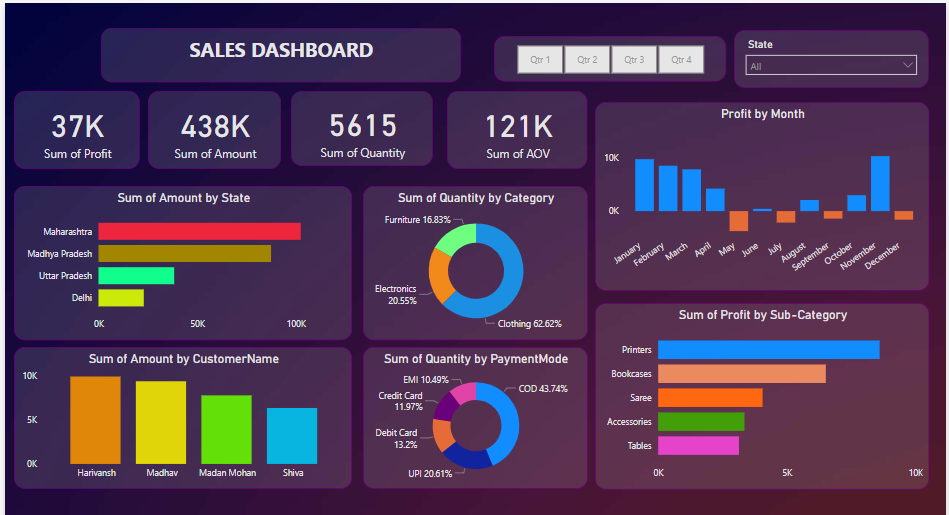

The page's visual inventory and layout, read from the dashboard file:
{"tool":"powerbi","page":{"name":"Sales","canvas":[1280,720],"ordinal":0},"visuals":[{"type":"textbox","box":[131,33.6,490.5,73.9],"z":0},{"type":"columnChart","title":"Profit by Month","fields":{"Y":["Details.Profit"],"Category":["Orders.Order Date.Variation.Date Hierarchy.Month"]},"box":[802.9,134.4,455.2,257],"z":1000},{"type":"barChart","fields":{"Category":["Details.Sub-Category"],"Y":["Details.Profit"]},"box":[802.9,408.2,455.2,253.6],"z":2000},{"type":"donutChart","fields":{"Category":["Details.Category"],"Y":["Details.Quantity"]},"box":[487.1,248.6,305.7,210],"z":3000},{"type":"donutChart","fields":{"Y":["Details.Quantity"],"Category":["Details.PaymentMode"]},"box":[487.1,468.7,305.7,193.2],"z":4000},{"type":"card","fields":{"Values":["Details.Amount"]},"box":[194.9,119.3,181.4,105.8],"z":5000},{"type":"card","fields":{"Values":["Details.Quantity"]},"box":[389.7,119.3,193.2,102.5],"z":6000},{"type":"card","fields":{"Values":["Details.AOV"]},"box":[601.4,119.3,191.5,105.8],"z":7000},{"type":"card","fields":{"Values":["Details.Profit"]},"box":[11.8,119.3,171.3,105.8],"z":8000},{"type":"barChart","fields":{"Category":["Orders.State"],"Y":["Details.Amount"]},"box":[11.8,248.6,460.3,210],"z":9000},{"type":"columnChart","fields":{"Category":["Orders.CustomerName"],"Y":["Details.Amount"]},"box":[11.8,468.7,460.3,193.2],"z":10000},{"type":"slicer","fields":{"Values":["Orders.State"]},"box":[992.8,37,265.4,79],"z":11000},{"type":"slicer","fields":{"Values":["Orders.Order Date.Variation.Date Hierarchy.Quarter"]},"box":[665.2,45.4,315.8,62.2],"z":12000}]}

Visuals, with their boxes on the page's 1280x720 design canvas (x1, y1, x2, y2). These are canvas units, not pixel positions in the 949x515 screenshot, which may show the page scaled, cropped or inside an application window:
textbox: crop(131, 34, 622, 108)
"Profit by Month" columnChart: crop(803, 134, 1258, 391)
barChart - Details.Sub-Category x Details.Profit: crop(803, 408, 1258, 662)
donutChart - Details.Category x Details.Quantity: crop(487, 249, 793, 459)
donutChart - Details.Quantity x Details.PaymentMode: crop(487, 469, 793, 662)
card - Details.Amount: crop(195, 119, 376, 225)
card - Details.Quantity: crop(390, 119, 583, 222)
card - Details.AOV: crop(601, 119, 793, 225)
card - Details.Profit: crop(12, 119, 183, 225)
barChart - Orders.State x Details.Amount: crop(12, 249, 472, 459)
columnChart - Orders.CustomerName x Details.Amount: crop(12, 469, 472, 662)
slicer - Orders.State: crop(993, 37, 1258, 116)
slicer - Orders.Order Date.Variation.Date Hierarchy.Quarter: crop(665, 45, 981, 108)
